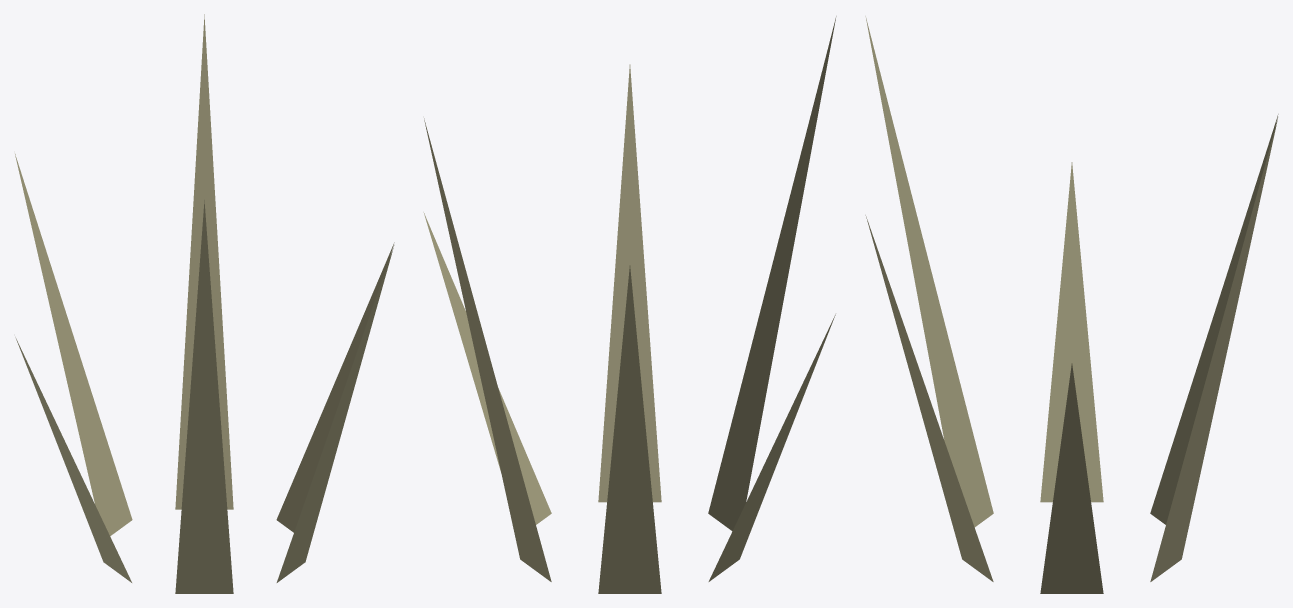
File: grass.gltf
3 renders of one model, left to right at view 1: azimuth 30°, elevation 25°; view 2: azimuth 150°, elevation 25°; view 3: azimuth 270°, elevation 25°, orthographic. The views are drawn at different scales.
Parts seen in each view (by area): view 1: grass; view 2: grass; view 3: grass.
Boxes of the visible parts, x1=… form: grass: x1=15, y1=14, x2=394, y2=593; grass: x1=423, y1=16, x2=836, y2=593; grass: x1=865, y1=16, x2=1278, y2=593.
Size of the model in its own units: 0.528 by 0.59 by 0.4573.
